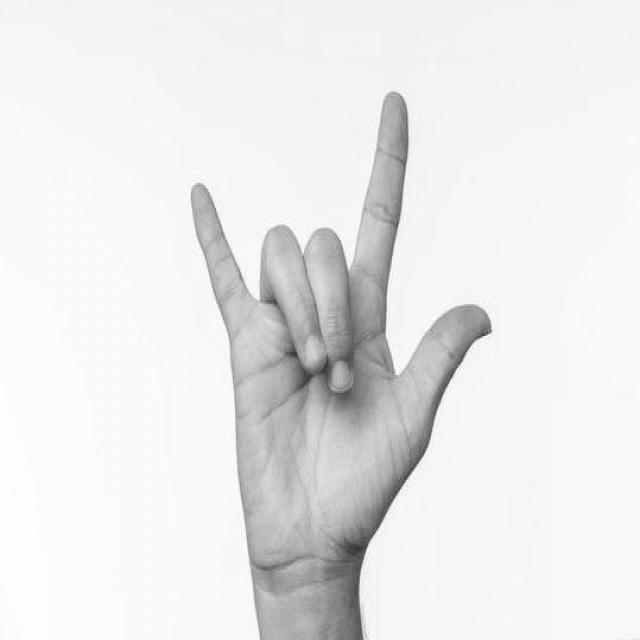i love you: (186, 82, 497, 588)
